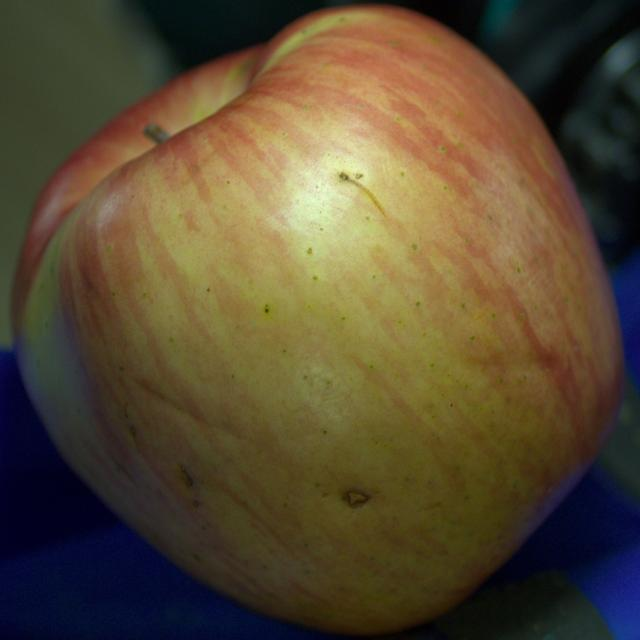apple: (12, 6, 622, 634)
bruise: (138, 376, 240, 435), (466, 354, 568, 374)
pest: (344, 491, 369, 508), (180, 466, 192, 486)
scratch: (339, 171, 388, 218)
